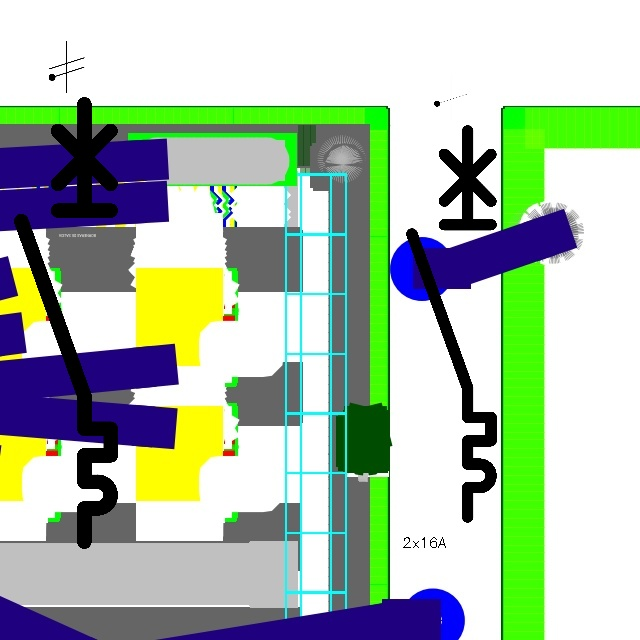interruptor_termomagnetico: (10, 93, 122, 553), (402, 120, 501, 526)
